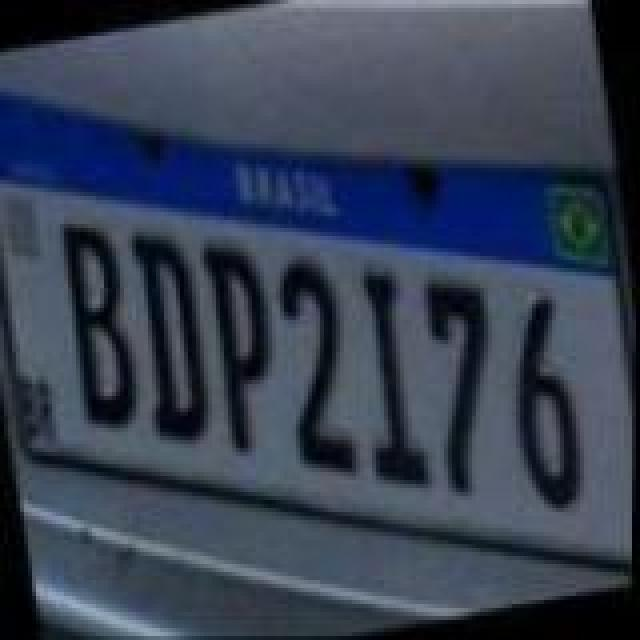2: (264, 250, 368, 482)
6: (494, 288, 598, 512)
7: (414, 274, 518, 502)
B: (50, 212, 150, 436)
D: (120, 220, 224, 452)
I: (340, 264, 440, 496)
P: (194, 232, 294, 456)
